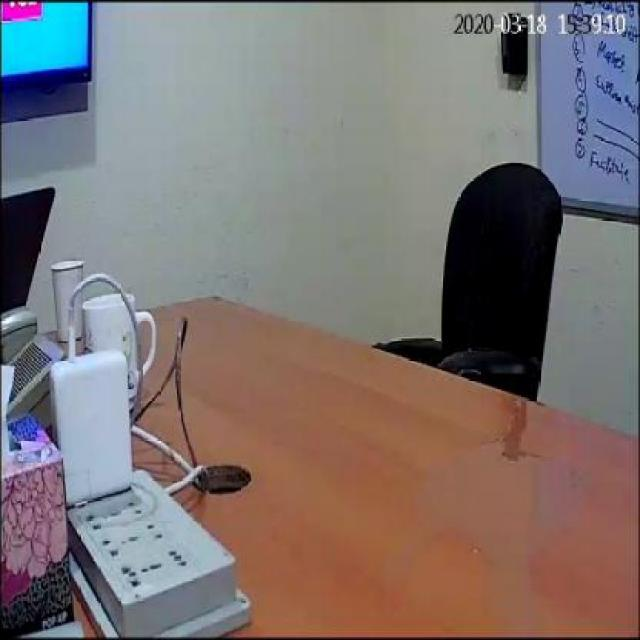spill: (408, 426, 600, 548)
